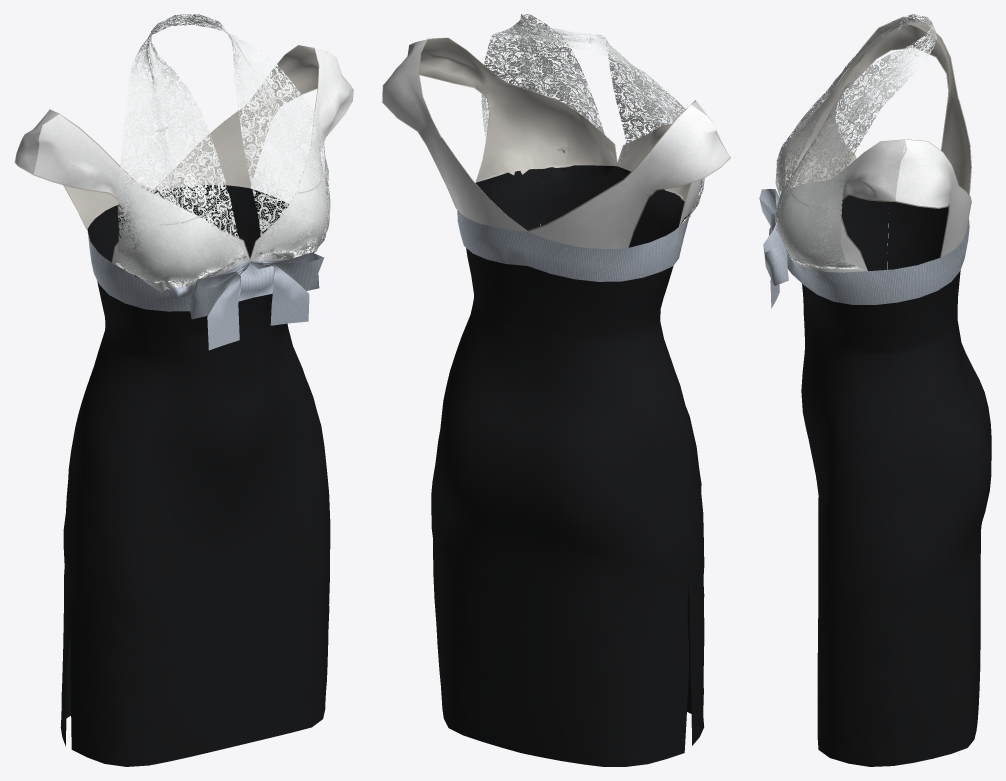
The model's file is 小晚礼裙.obj.
The picture shows the model from 3 angles, left to right: view 1: azimuth 30°, elevation 25°; view 2: azimuth 150°, elevation 25°; view 3: azimuth 270°, elevation 25°; orthographic projection. The views are drawn at different scales.
Size of the model in its own units: 478 by 961 by 294.
